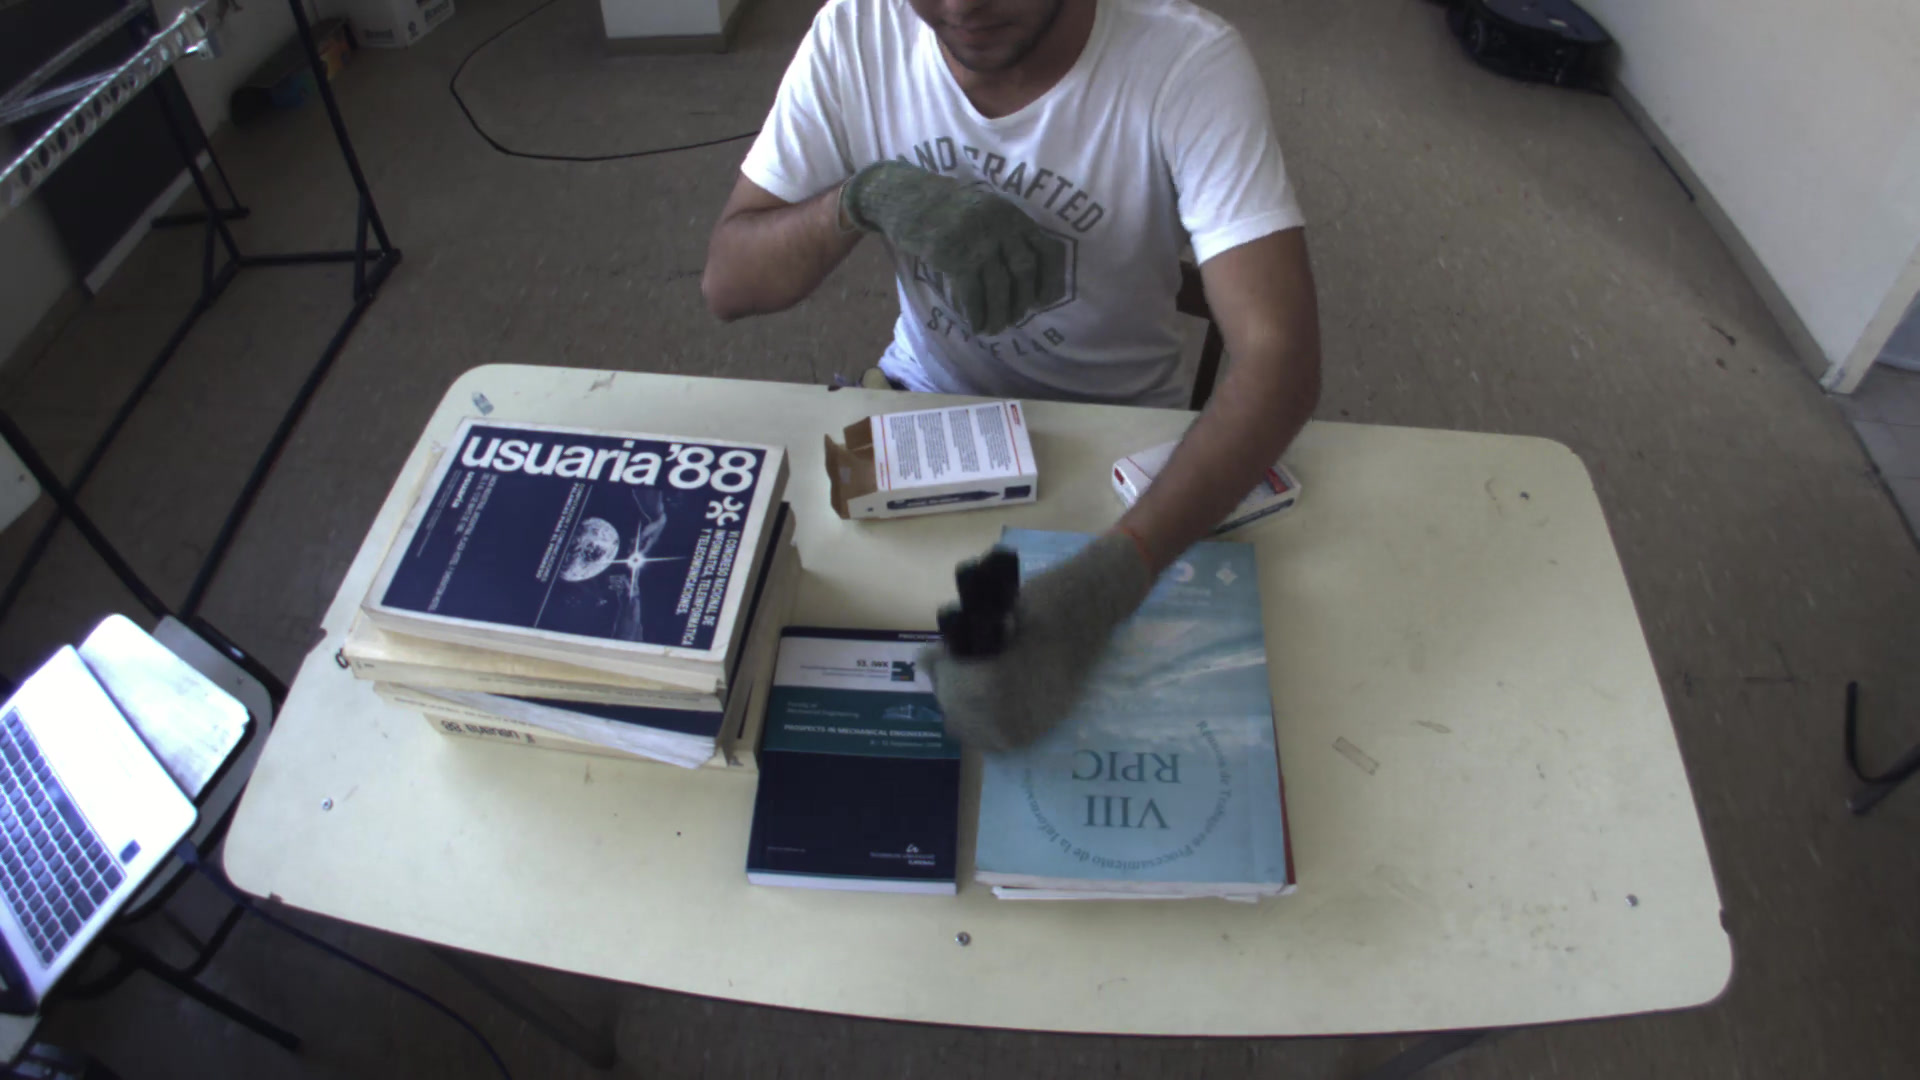hand: (916, 527, 1172, 767), (841, 156, 1068, 326)
